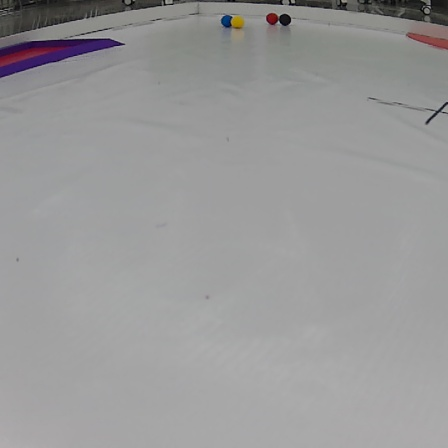black: (276, 11, 297, 29)
blue: (217, 13, 235, 28)
red: (265, 10, 279, 27)
red_aim: (0, 36, 127, 80)
red_base: (403, 27, 448, 59)
yellow: (229, 14, 248, 30)
